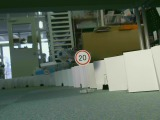speed_20: (74, 49, 91, 66)
